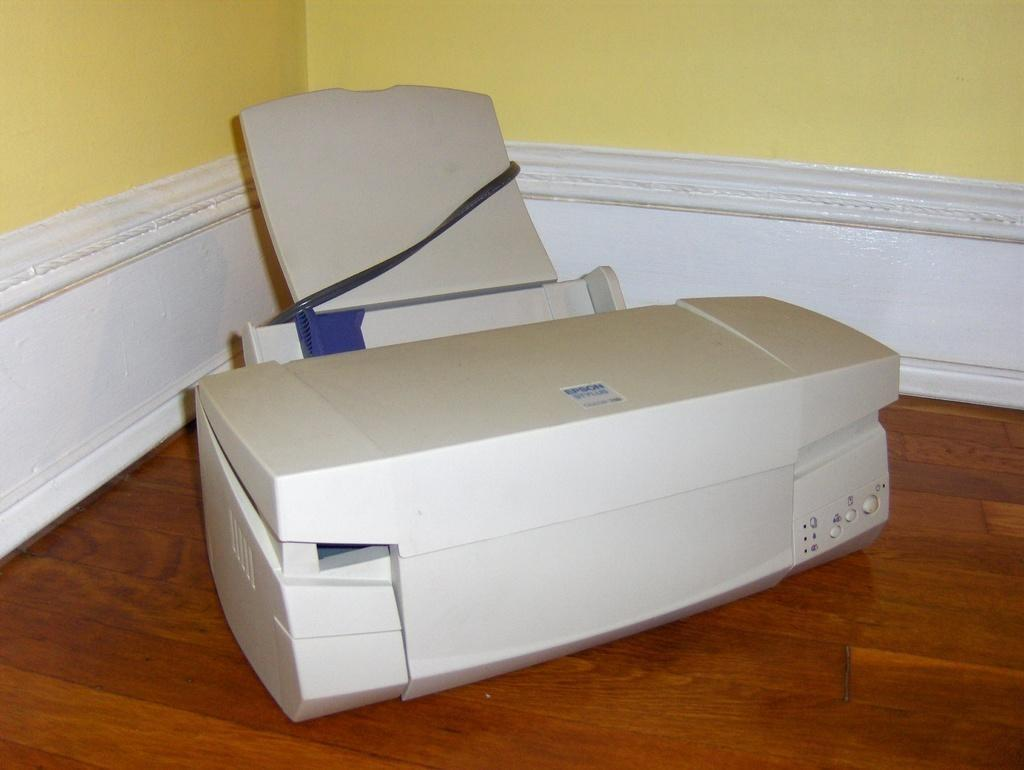Printer: (193, 83, 901, 720)
